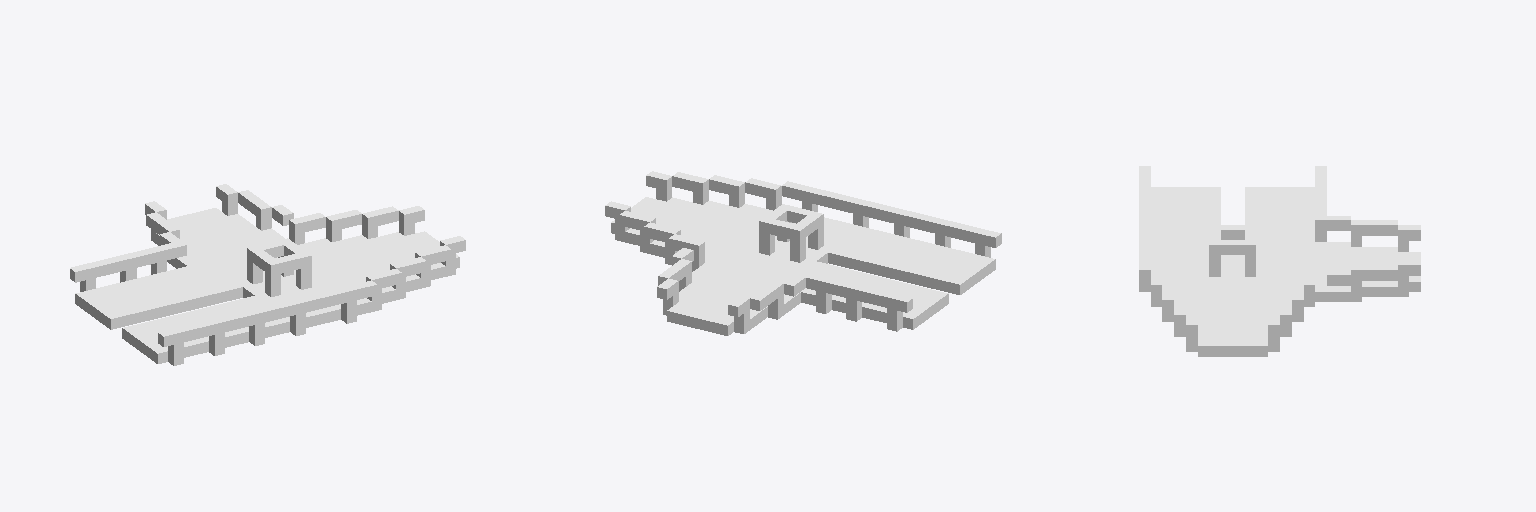
File: roadForkAdapter2.obj
The picture shows the model from 3 angles: view 1: azimuth 30°, elevation 25°; view 2: azimuth 150°, elevation 25°; view 3: azimuth 270°, elevation 25°; orthographic projection.
Parts seen in each view (by area): view 1: object 1; view 2: object 1; view 3: object 1.
Part boxes in pixels (x1,y1,x2,y2): object 1: (70, 184, 465, 365); object 1: (605, 171, 1001, 335); object 1: (1139, 166, 1420, 356).
Bounding box in the file's own units: 3.2 × 0.4 × 2.4.